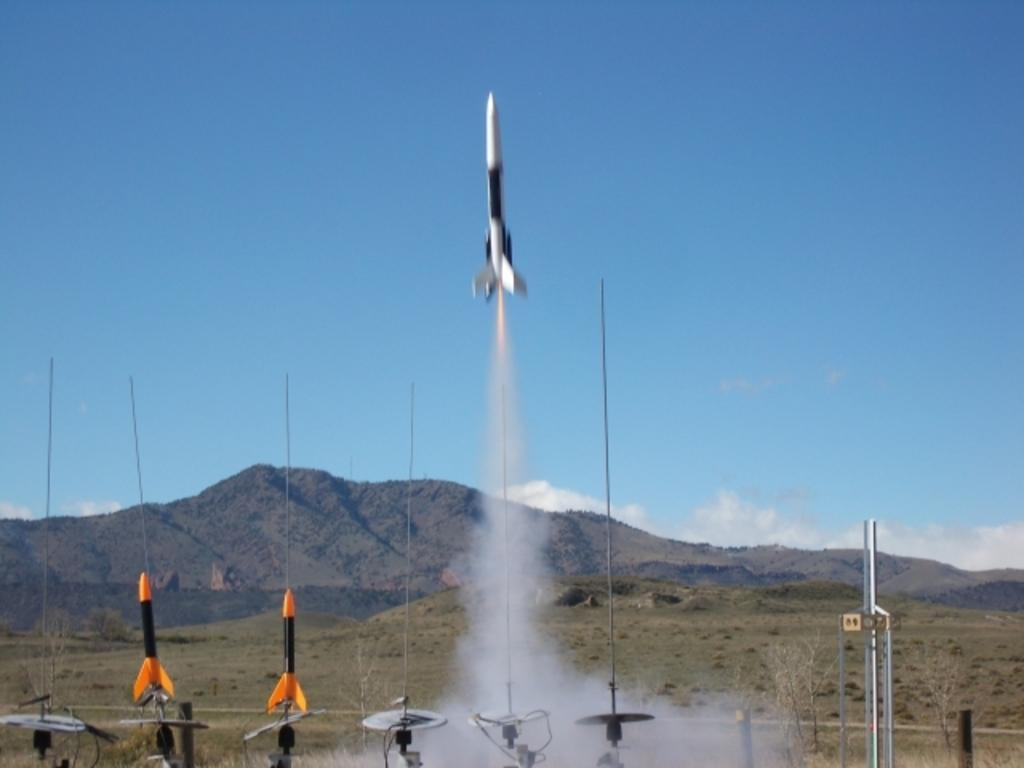Missile: (470, 90, 526, 302), (130, 571, 174, 701), (266, 582, 310, 712)
